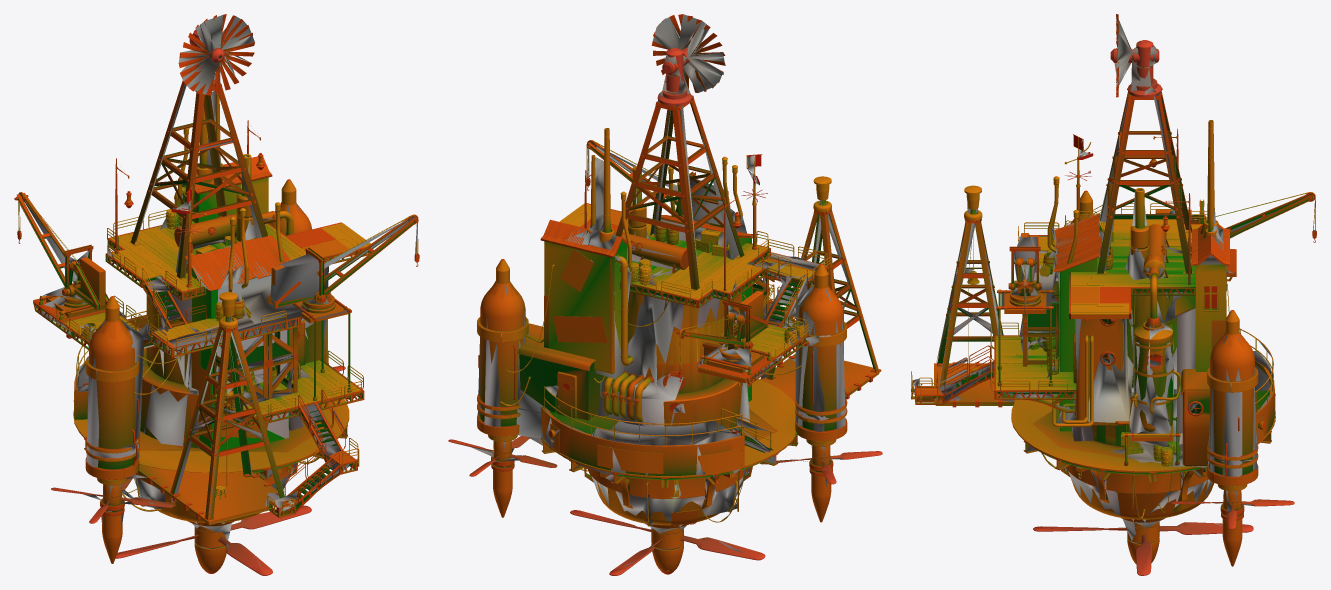
The model's file is KB3D_CSK_BldgSmSmallFactory_A.glb.
3 views of the same model, side by side, from view 1: azimuth 30°, elevation 25°; view 2: azimuth 150°, elevation 25°; view 3: azimuth 270°, elevation 25° (orthographic). The views are drawn at different scales.
Parts seen in each view (by area): view 1: L0, L1, L2; view 2: L0, L1, L2; view 3: L0, L1, L2.
Part boxes in pixels (x1,y1,x2,y2): L0: (14, 15, 419, 575); L1: (18, 14, 418, 574); L2: (24, 15, 417, 566); L0: (448, 14, 882, 575); L1: (451, 14, 881, 574); L2: (458, 14, 855, 566); L0: (911, 16, 1316, 575); L1: (911, 14, 1316, 575); L2: (912, 14, 1273, 543).
Size of the model in its own units: 18.25 by 28.2 by 19.01.
